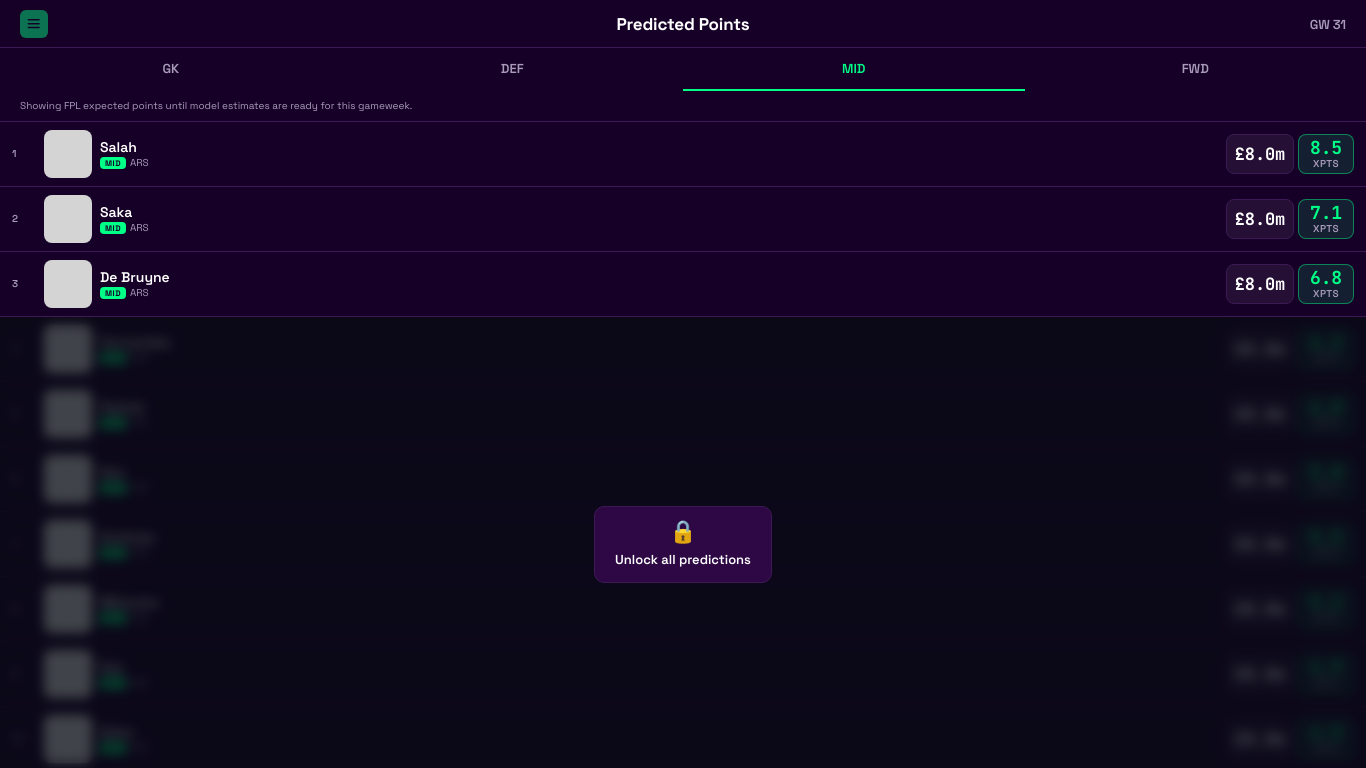
Test: PredictedPointsScreen › tab switching › shows empty message when position has no players
The width and height of the screenshot is (1366, 768).
Click the tab "GK" at (171, 70), box [0,48,342,91]
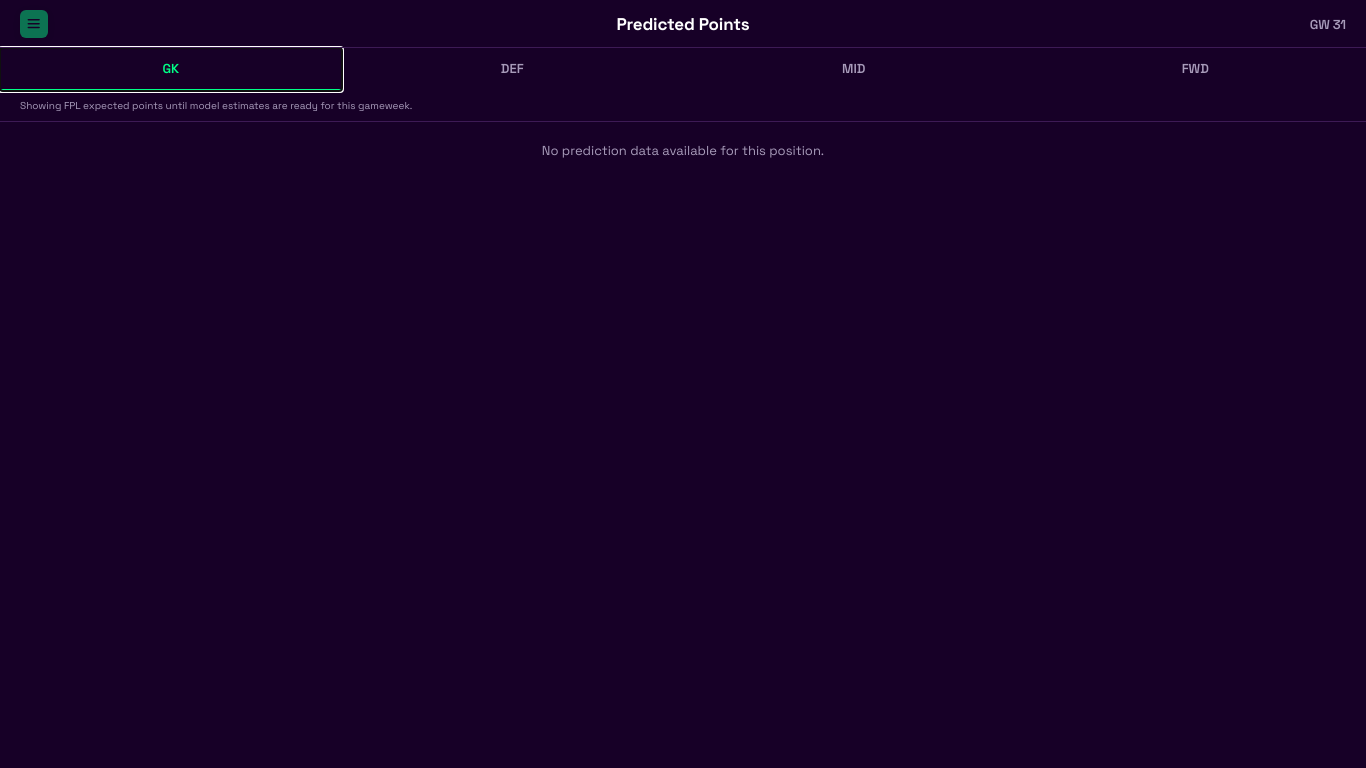
Expected: the text "No prediction data available for this position." is shown, [542,142,824,159]
